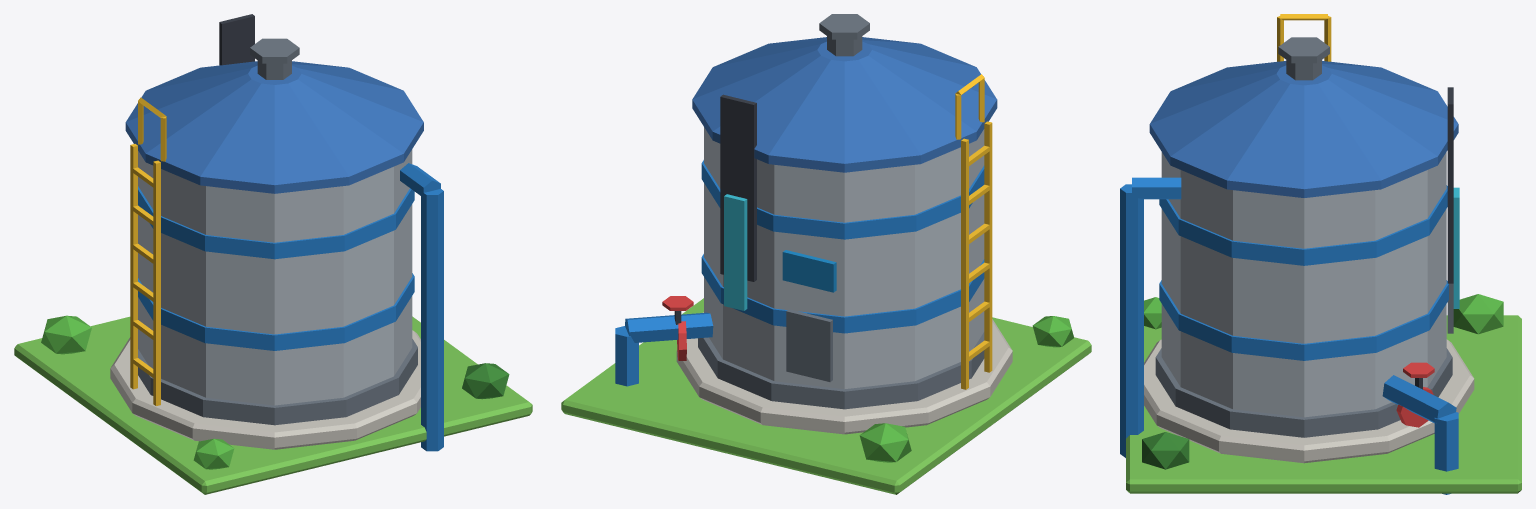
File: water_tank.glb
3 views of the same model, side by side, from view 1: azimuth 30°, elevation 25°; view 2: azimuth 150°, elevation 25°; view 3: azimuth 270°, elevation 25° (orthographic). The views are drawn at different scales.
Parts seen in each view (by area): view 1: corpo; view 2: corpo; view 3: corpo.
Part boxes in pixels (x1=…): corpo: x1=14, y1=14, x2=532, y2=494; corpo: x1=561, y1=14, x2=1091, y2=494; corpo: x1=1120, y1=14, x2=1521, y2=494.
Bounding box in the file's own units: 2 × 2.06 × 2.03.
